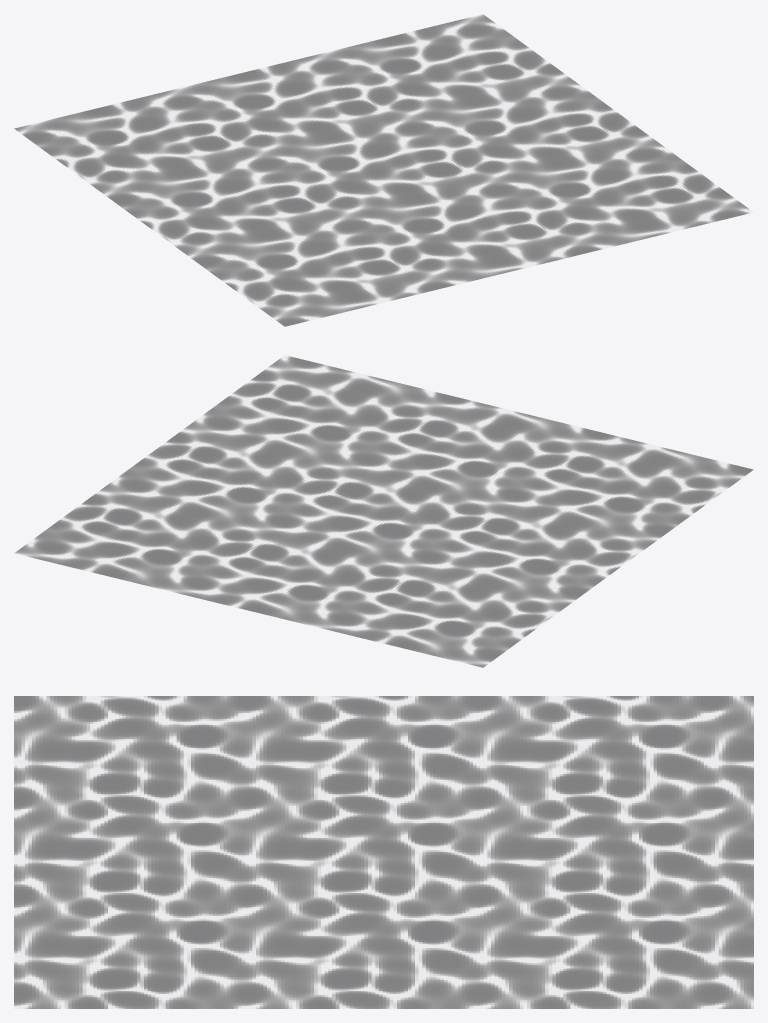
Rendered from water.obj.
3 renders of one model, top to bottom at view 1: azimuth 30°, elevation 25°; view 2: azimuth 150°, elevation 25°; view 3: azimuth 270°, elevation 25°, orthographic. The views are drawn at different scales.
Parts seen in each view (by area): view 1: agua; view 2: agua; view 3: agua.
Part boxes in pixels (x1=…): agua: x1=14, y1=14, x2=753, y2=326; agua: x1=14, y1=355, x2=753, y2=667; agua: x1=14, y1=696, x2=753, y2=1008.
Size of the model in its own units: 10 by 0 by 10.
